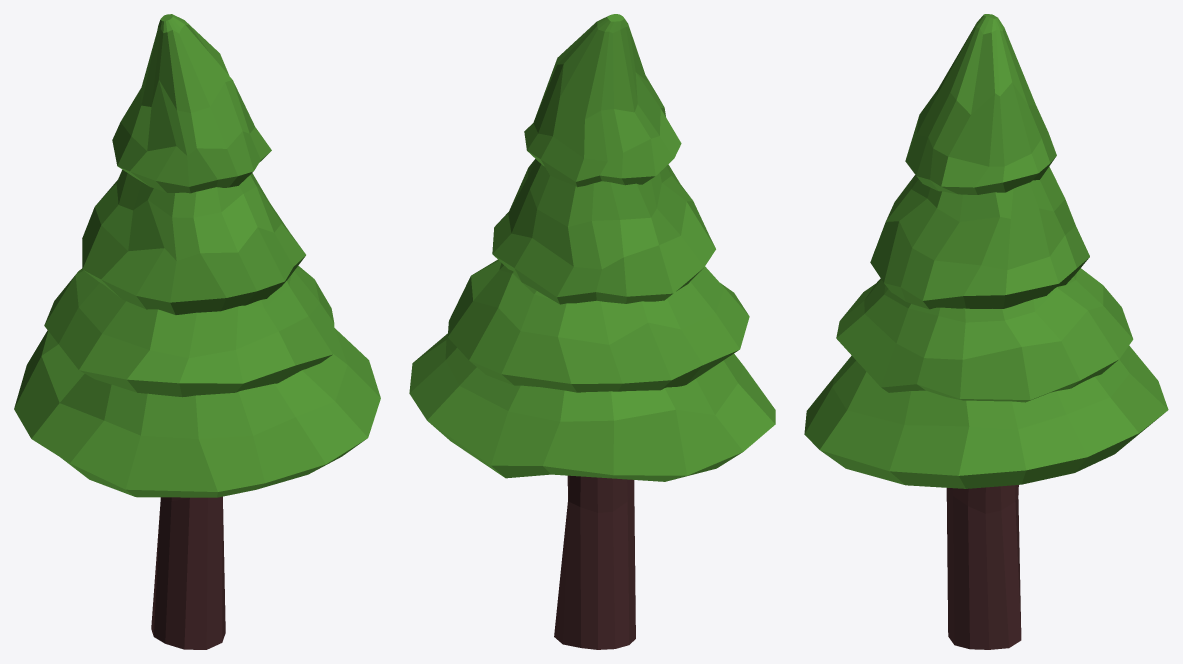
File: tree_big.fbx
3 views of the same model, side by side, from view 1: azimuth 30°, elevation 25°; view 2: azimuth 150°, elevation 25°; view 3: azimuth 270°, elevation 25° (orthographic). The views are drawn at different scales.
Visible parts, largest first — view 1: Leaves1, Leaves2, Leaves4, Leaves3, Trunk; view 2: Leaves1, Leaves2, Leaves4, Leaves3, Trunk; view 3: Leaves1, Leaves2, Leaves4, Leaves3, Trunk.
Boxes of the visible parts, x1=… form: Leaves1: x1=14, y1=328, x2=380, y2=497; Leaves2: x1=44, y1=266, x2=334, y2=397; Leaves4: x1=82, y1=170, x2=305, y2=314; Leaves3: x1=112, y1=14, x2=271, y2=193; Trunk: x1=151, y1=496, x2=225, y2=649; Leaves1: x1=409, y1=333, x2=775, y2=481; Leaves2: x1=447, y1=259, x2=749, y2=392; Leaves4: x1=492, y1=159, x2=715, y2=304; Leaves3: x1=524, y1=14, x2=681, y2=187; Trunk: x1=554, y1=475, x2=635, y2=649; Leaves1: x1=804, y1=345, x2=1168, y2=488; Leaves2: x1=836, y1=268, x2=1133, y2=402; Leaves4: x1=870, y1=166, x2=1089, y2=309; Leaves3: x1=905, y1=14, x2=1056, y2=194; Trunk: x1=946, y1=485, x2=1021, y2=649.
Size of the model in its own units: 459 by 861 by 464.
